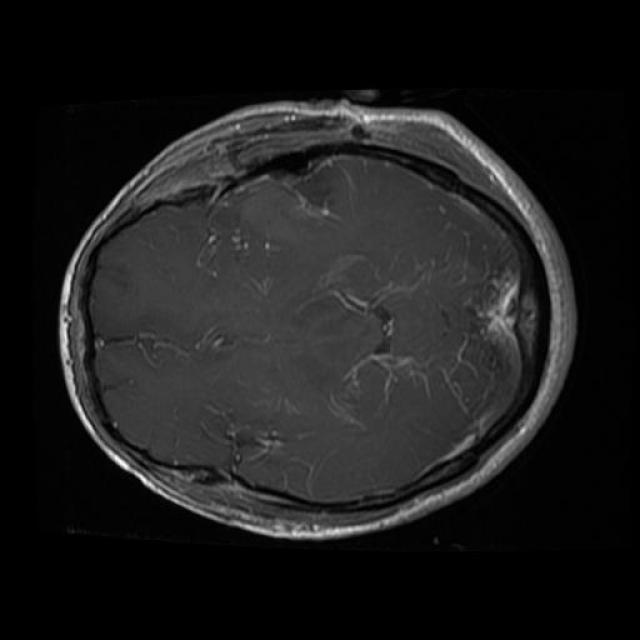Glioma: (225, 423, 285, 476)
